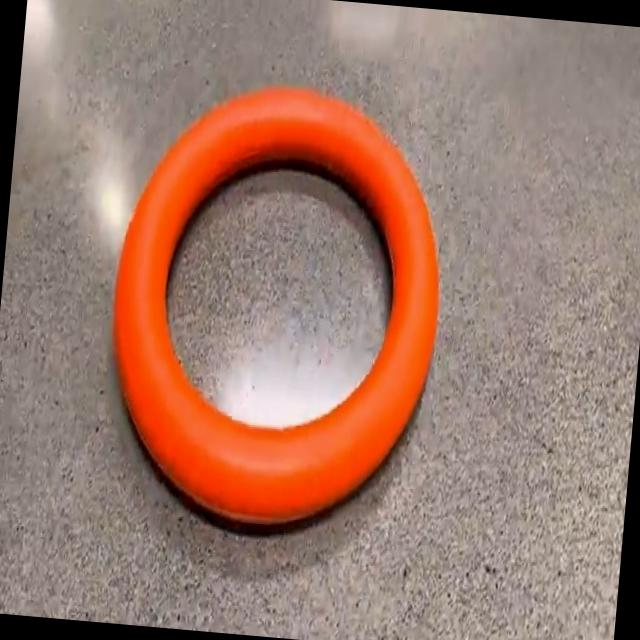note: (114, 86, 438, 522)
